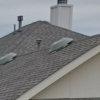Chimney: (43, 1, 80, 34)
